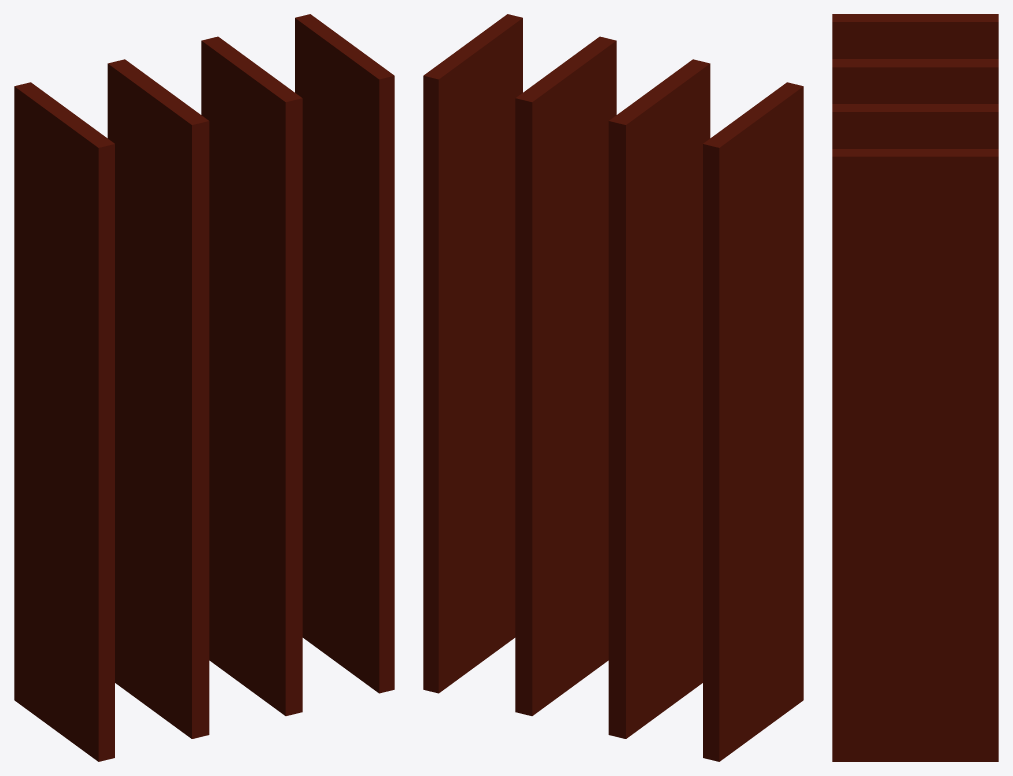
3 renders of one model, left to right at view 1: azimuth 30°, elevation 25°; view 2: azimuth 150°, elevation 25°; view 3: azimuth 270°, elevation 25°, orthographic.
Parts seen in each view (by area): view 1: 立方体.003.5.mesh, 立方体.002.4.mesh, 立方体.001.3.mesh, 立方体.006.2.mesh; view 2: 立方体.003.5.mesh, 立方体.002.4.mesh, 立方体.001.3.mesh, 立方体.006.2.mesh; view 3: 立方体.006.2.mesh, 立方体.003.5.mesh, 立方体.001.3.mesh, 立方体.002.4.mesh.
Part boxes in pixels (x1,y1,x2,y2): 立方体.003.5.mesh: (14,82,114,761); 立方体.002.4.mesh: (107,59,209,738); 立方体.001.3.mesh: (201,36,302,715); 立方体.006.2.mesh: (295,14,394,693); 立方体.003.5.mesh: (703,82,803,761); 立方体.002.4.mesh: (608,59,710,738); 立方体.001.3.mesh: (515,36,616,715); 立方体.006.2.mesh: (423,14,522,693); 立方体.006.2.mesh: (832,149,998,761); 立方体.003.5.mesh: (832,14,998,58); 立方体.001.3.mesh: (832,104,998,148); 立方体.002.4.mesh: (832,59,998,103).
Size of the model in its own units: 56.86 by 113 by 28.03.
